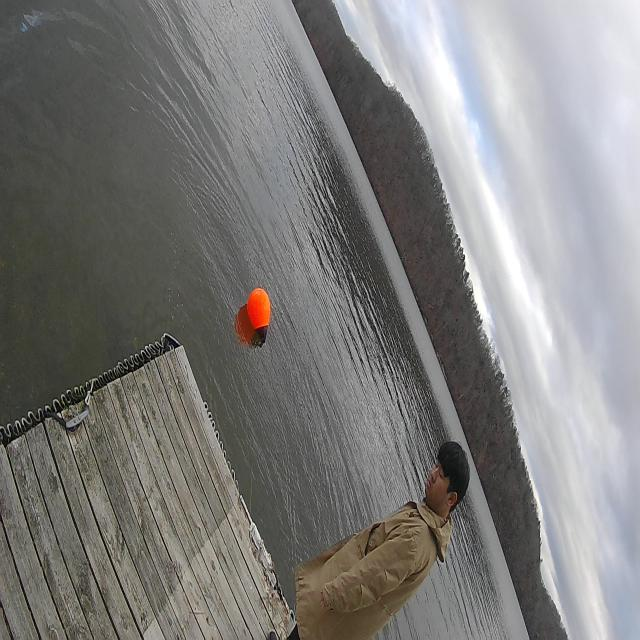Buoy: (244, 281, 273, 349)
